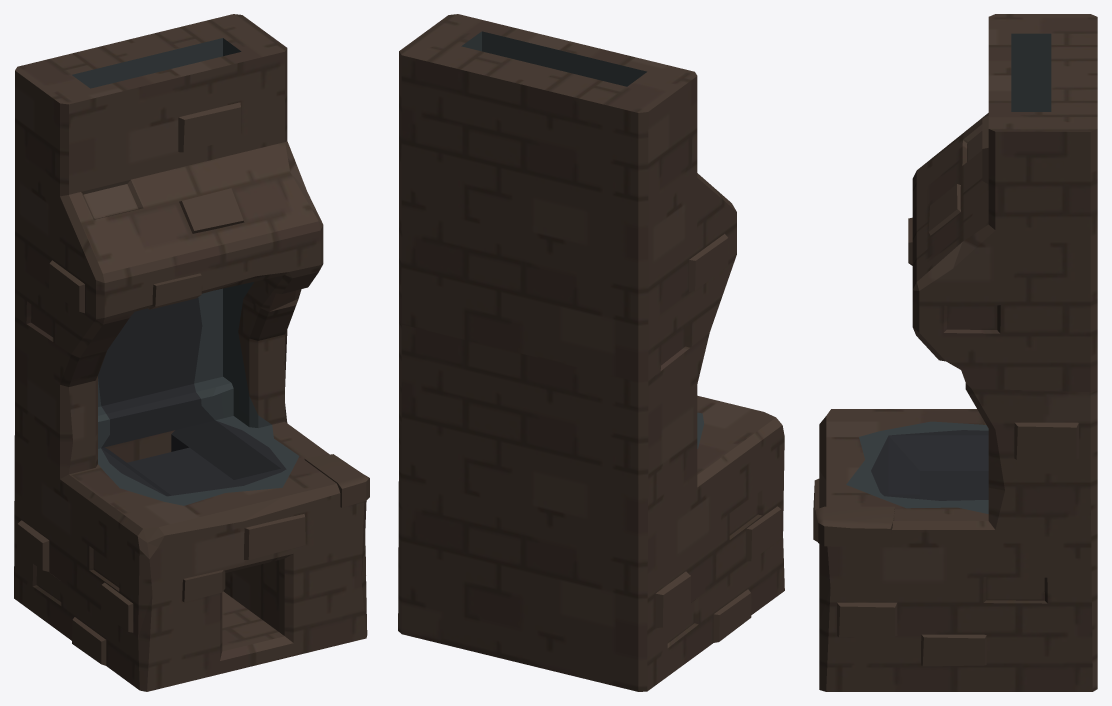
The model's file is kingdom_SM_Prop_Forge_03.gltf.
3 renders of one model, left to right at view 1: azimuth 30°, elevation 25°; view 2: azimuth 150°, elevation 25°; view 3: azimuth 270°, elevation 25°, orthographic. The views are drawn at different scales.
Visible parts, largest first — view 1: SM_Prop_Forge_03; view 2: SM_Prop_Forge_03; view 3: SM_Prop_Forge_03.
Part boxes in pixels (x1,y1,x2,y2): SM_Prop_Forge_03: [14, 14, 369, 691]; SM_Prop_Forge_03: [398, 14, 784, 691]; SM_Prop_Forge_03: [813, 14, 1097, 691].
Size of the model in its own units: 1.26 by 2.67 by 1.23.
1 material, 1 textured.
